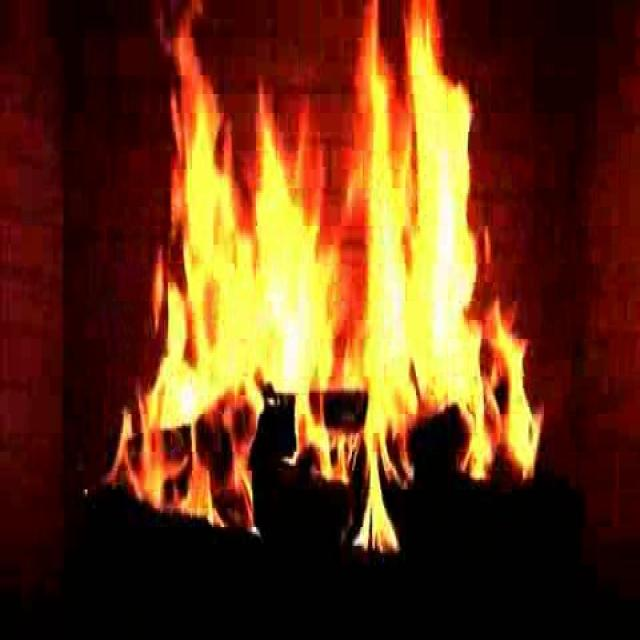fire: (144, 22, 506, 538)
